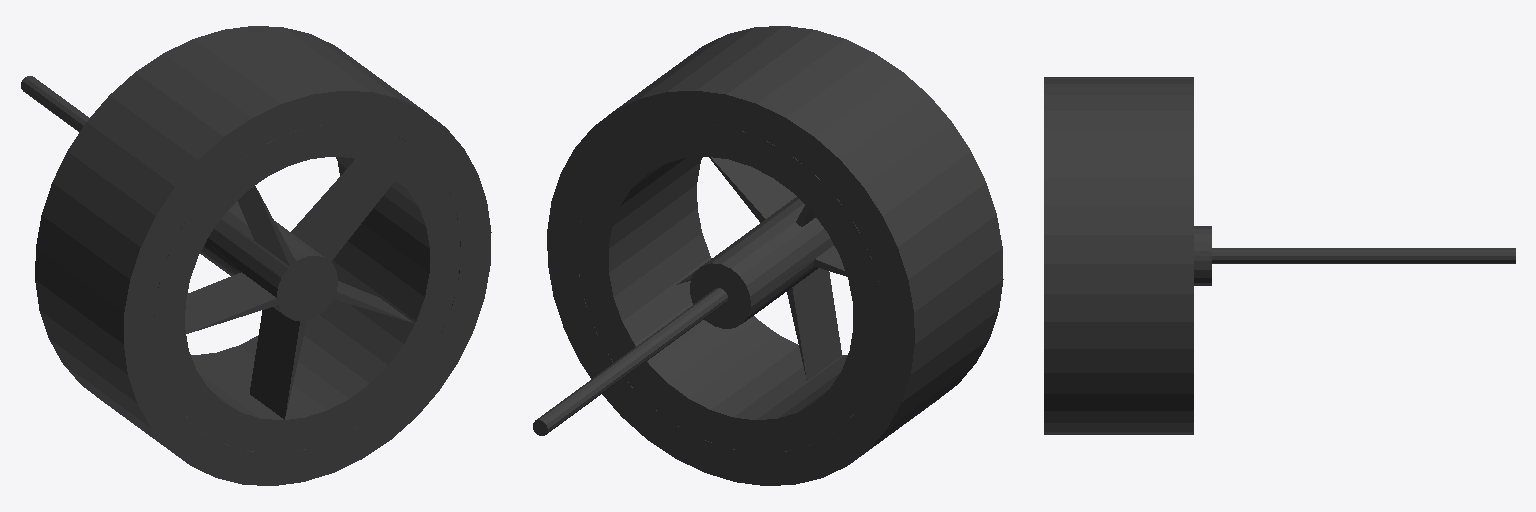
URDF robot description (finalbot):
<?xml version="1.0" encoding="utf-8"?>
<!-- This URDF was automatically created by SolidWorks to URDF Exporter! Originally created by [author] ([email redacted]) 
     Commit Version: 1.6.0-4-g7f85cfe  Build Version: 1.6.7995.38578
     For more information, please see http://wiki.ros.org/sw_urdf_exporter -->
<robot
  name="finalbot">
  <link
    name="base_link">
    <inertial>
      <origin
        xyz="-0.012984546417506 0.00386031982659382 0.0028150193347373"
        rpy="0 0 0" />
      <mass
        value="3.12447110718362" />
      <inertia
        ixx="0.0101765622751055"
        ixy="-8.33475054187552E-06"
        ixz="-0.000407885130932817"
        iyy="0.0140735401654392"
        iyz="-1.47424116291273E-06"
        izz="0.022527449194129" />
    </inertial>
    <visual>
      <origin
        xyz="0 0 0"
        rpy="0 0 0" />
      <geometry>
        <mesh
          filename="package://finalbot/meshes/base_link.STL" />
      </geometry>
      <material
        name="">
        <color
          rgba="0.968627450980392 0.258823529411765 0.258823529411765 1" />
      </material>
    </visual>
    <collision>
      <origin
        xyz="0 0 0"
        rpy="0 0 0" />
      <geometry>
        <mesh
          filename="package://finalbot/meshes/base_link.STL" />
      </geometry>
    </collision>
  </link>
  <link
    name="leftwheel">
    <inertial>
      <origin
        xyz="2.77555756156289E-17 -1.72084568816899E-15 0.246029171631938"
        rpy="0 0 0" />
      <mass
        value="0.015766987148019" />
      <inertia
        ixx="6.40297333602334E-06"
        ixy="8.10930579044381E-22"
        ixz="-7.81778316863285E-23"
        iyy="6.40297333602334E-06"
        iyz="-3.00885561986696E-20"
        izz="1.06004642486074E-05" />
    </inertial>
    <visual>
      <origin
        xyz="0 0 0"
        rpy="0 0 0" />
      <geometry>
        <mesh
          filename="package://finalbot/meshes/leftwheel.STL" />
      </geometry>
      <material
        name="">
        <color
          rgba="0.294117647058824 0.294117647058824 0.294117647058824 1" />
      </material>
    </visual>
    <collision>
      <origin
        xyz="0 0 0"
        rpy="0 0 0" />
      <geometry>
        <mesh
          filename="package://finalbot/meshes/leftwheel.STL" />
      </geometry>
    </collision>
  </link>
  <joint
    name="leftwheel"
    type="continuous">
    <origin
      xyz="0.158895590614314 -0.125767330164326 -0.0235253402197184"
      rpy="-1.5707963267949 0 0" />
    <parent
      link="base_link" />
    <child
      link="leftwheel" />
    <axis
      xyz="0 0 -1" />
    <limit
      effort="10"
      velocity="10" />
    <dynamics
      damping="0.1"
      friction="0.1" />
  </joint>
  <link
    name="rightwheel">
    <inertial>
      <origin
        xyz="2.77555756156289E-17 -9.71445146547012E-17 0.0131708281800618"
        rpy="0 0 0" />
      <mass
        value="0.015766987148019" />
      <inertia
        ixx="6.40297333602335E-06"
        ixy="1.32891326813347E-21"
        ixz="1.28691576492E-21"
        iyy="6.40297333602334E-06"
        iyz="-2.96995504735356E-20"
        izz="1.06004642486074E-05" />
    </inertial>
    <visual>
      <origin
        xyz="0 0 0"
        rpy="0 0 0" />
      <geometry>
        <mesh
          filename="package://finalbot/meshes/rightwheel.STL" />
      </geometry>
      <material
        name="">
        <color
          rgba="0.294117647058824 0.294117647058824 0.294117647058824 1" />
      </material>
    </visual>
    <collision>
      <origin
        xyz="0 0 0"
        rpy="0 0 0" />
      <geometry>
        <mesh
          filename="package://finalbot/meshes/rightwheel.STL" />
      </geometry>
    </collision>
  </link>
  <joint
    name="rightwheel"
    type="continuous">
    <origin
      xyz="0.158895590614314 -0.125767330164326 -0.0235253402197184"
      rpy="-1.5707963267949 0 0" />
    <parent
      link="base_link" />
    <child
      link="rightwheel" />
    <axis
      xyz="0 0 -1" />
    <limit
      effort="10"
      velocity="10" />
    <dynamics
      damping="1"
      friction="1" />
  </joint>
</robot>

--- What the picture shows (computed from the rendered views, not written in the file) ---
The picture shows the robot from 3 angles, left to right: view 1: azimuth 30°, elevation 25°; view 2: azimuth 150°, elevation 25°; view 3: azimuth 270°, elevation 25°; orthographic projection.
Robot: finalbot — 3 links, 2 joints (2 continuous); root link base_link; default pose: every joint at zero.
Visible links, largest first — view 1: rightwheel; view 2: rightwheel; view 3: rightwheel.
Link boxes in pixels (<box>): rightwheel: <box>21,26,491,485</box>; rightwheel: <box>533,26,1003,485</box>; rightwheel: <box>1044,77,1515,434</box>.
Bounding box of the posed robot: 0.0599 × 0.0788 × 0.06 m (x, y, z).
1 mesh visuals loaded from 3 distinct referenced files (1 binary STL); not drawn: 2 (reference not matched to a file when rendering).